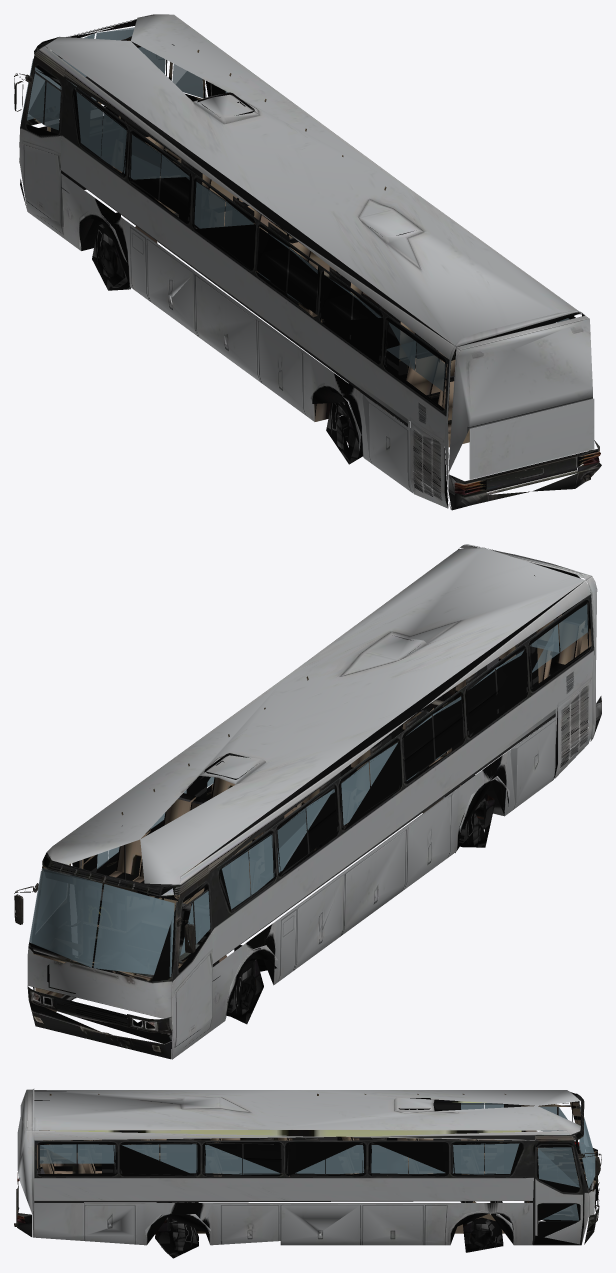
The model's file is bus-mid.glb.
3 views of the same model, one above another, from view 1: azimuth 30°, elevation 25°; view 2: azimuth 150°, elevation 25°; view 3: azimuth 270°, elevation 25° (orthographic). The views are drawn at different scales.
Visible parts, largest first — view 1: paint-atlas, atlas-e6b5309a, glass; view 2: paint-atlas, glass, atlas-e6b5309a; view 3: paint-atlas, glass, atlas-e6b5309a.
Part boxes in pixels (x1,y1,x2,y2): paint-atlas: (14,14,601,510); atlas-e6b5309a: (26,15,575,507); glass: (21,27,569,391); paint-atlas: (14,544,601,1059); glass: (29,604,587,976); atlas-e6b5309a: (29,562,591,1024); paint-atlas: (14,1088,601,1245); glass: (39,1102,595,1220); atlas-e6b5309a: (34,1090,599,1258).
Size of the model in its own units: 2.59 by 3.1 by 12.2.
3 materials, 2 textured.
